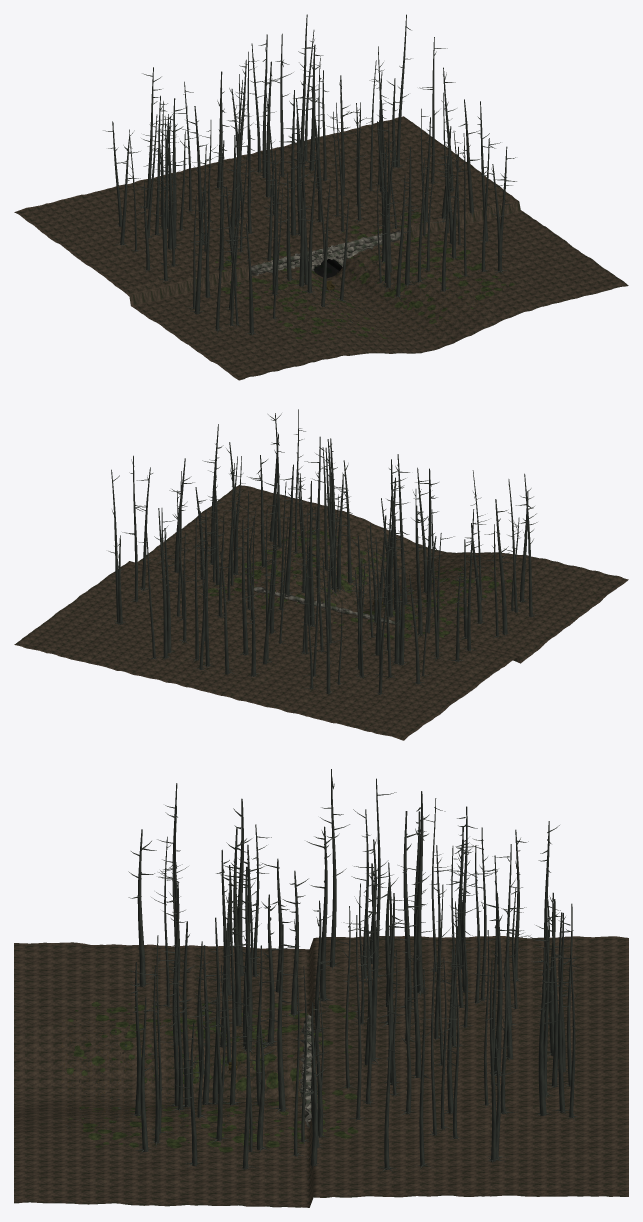
File: winden.glb
3 views of the same model, one above another, from view 1: azimuth 30°, elevation 25°; view 2: azimuth 150°, elevation 25°; view 3: azimuth 270°, elevation 25° (orthographic). The views are drawn at different scales.
Parts seen in each view (by area): view 1: Forest_floor, Bark, Moss, Limestone, Dry_leaves; view 2: Forest_floor, Bark, Moss, Limestone, Dry_leaves; view 3: Forest_floor, Bark, Moss, Dry_leaves, Limestone.
Part boxes in pixels (bbox=[...]): Forest_floor: bbox=[14, 116, 628, 380]; Bark: bbox=[103, 14, 516, 339]; Moss: bbox=[215, 212, 514, 340]; Limestone: bbox=[251, 230, 471, 337]; Dry_leaves: bbox=[248, 243, 495, 342]; Forest_floor: bbox=[14, 485, 628, 740]; Bark: bbox=[108, 409, 539, 695]; Moss: bbox=[208, 527, 512, 640]; Limestone: bbox=[253, 542, 492, 625]; Dry_leaves: bbox=[255, 530, 503, 626]; Forest_floor: bbox=[14, 936, 628, 1207]; Bark: bbox=[62, 769, 580, 1180]; Moss: bbox=[66, 997, 358, 1152]; Dry_leaves: bbox=[60, 1016, 298, 1135]; Limestone: bbox=[76, 1014, 311, 1128].
Bounding box in the file's own units: 67.08 × 29.1 × 67.08.
Materials: 7 (7 with a texture image).
